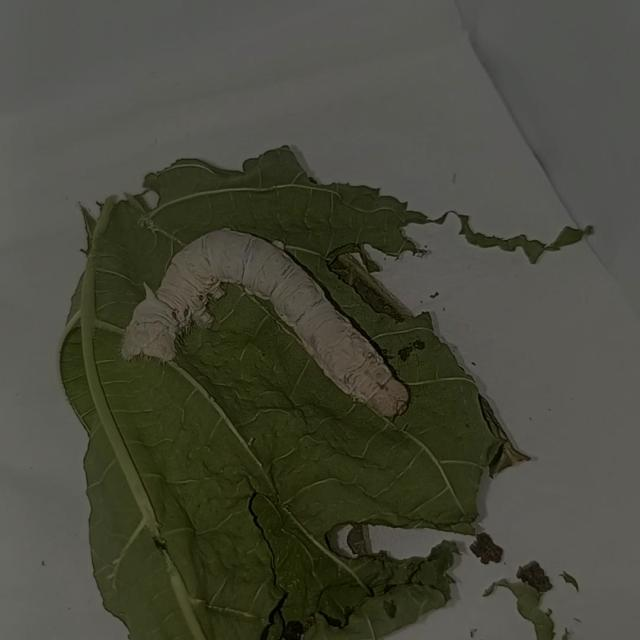Healthy: (113, 216, 414, 422)
